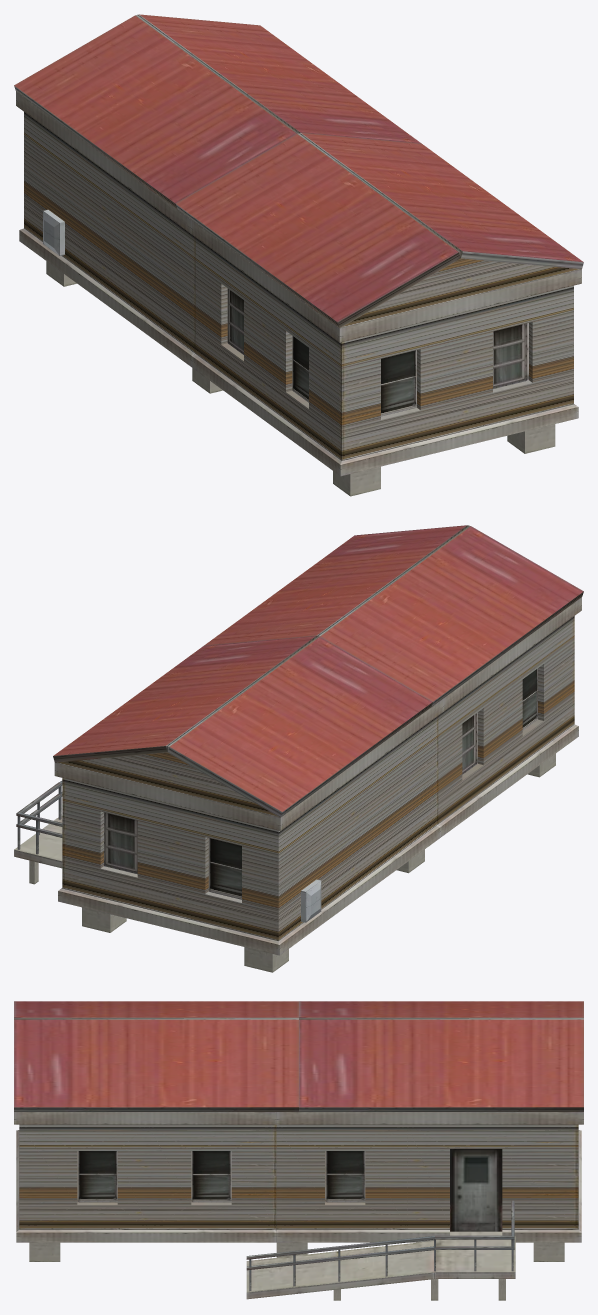
The model's file is rural-mobile-home.walls-v1.lod0.glb.
3 views of the same model, one above another, from view 1: azimuth 30°, elevation 25°; view 2: azimuth 150°, elevation 25°; view 3: azimuth 270°, elevation 25° (orthographic). The views are drawn at different scales.
Visible parts, largest first — view 1: Rural_UnmobileHome_1_Rural_Trailer_Stuff_1_0, Rural_UnmobileHome_1_Rural_Facade_FLR_2_0; view 2: Rural_UnmobileHome_1_Rural_Trailer_Stuff_1_0, Rural_UnmobileHome_1_Rural_Facade_FLR_2_0; view 3: Rural_UnmobileHome_1_Rural_Trailer_Stuff_1_0, Rural_UnmobileHome_1_Rural_Facade_FLR_2_0.
Part boxes in pixels (bbox=[...]): Rural_UnmobileHome_1_Rural_Trailer_Stuff_1_0: bbox=[14, 14, 583, 460]; Rural_UnmobileHome_1_Rural_Facade_FLR_2_0: bbox=[16, 92, 581, 496]; Rural_UnmobileHome_1_Rural_Trailer_Stuff_1_0: bbox=[53, 525, 583, 940]; Rural_UnmobileHome_1_Rural_Facade_FLR_2_0: bbox=[14, 597, 581, 972]; Rural_UnmobileHome_1_Rural_Trailer_Stuff_1_0: bbox=[14, 1001, 583, 1229]; Rural_UnmobileHome_1_Rural_Facade_FLR_2_0: bbox=[14, 1112, 583, 1300].
Size of the model in its own units: 6.64 by 4.39 by 11.38.
2 materials, 2 textured.
